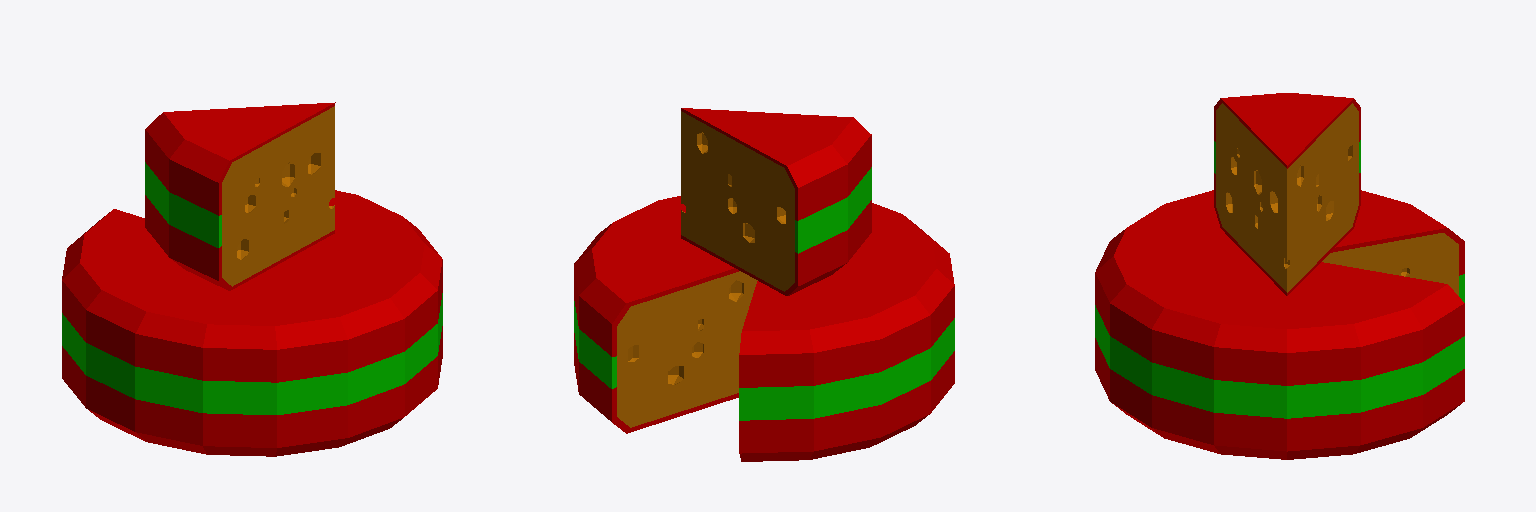
File: cheese_basic.obj
The picture shows the model from 3 angles: view 1: azimuth 30°, elevation 25°; view 2: azimuth 150°, elevation 25°; view 3: azimuth 270°, elevation 25°; orthographic projection.
Visible parts, largest first — view 1: 0, 2, 1; view 2: 0, 1, 2; view 3: 0, 1, 2.
Part boxes in pixels (x1,y1,x2,y2): 0: (62, 102, 442, 456); 2: (62, 162, 442, 414); 1: (222, 106, 334, 286); 0: (574, 108, 954, 461); 1: (617, 111, 794, 427); 2: (574, 167, 954, 420); 0: (1095, 93, 1464, 459); 1: (1216, 103, 1458, 295); 2: (1095, 140, 1464, 418).
Size of the model in its own units: 0.4 by 0.3 by 0.3848.